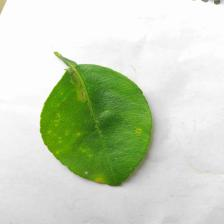greening: (43, 109, 154, 161)
